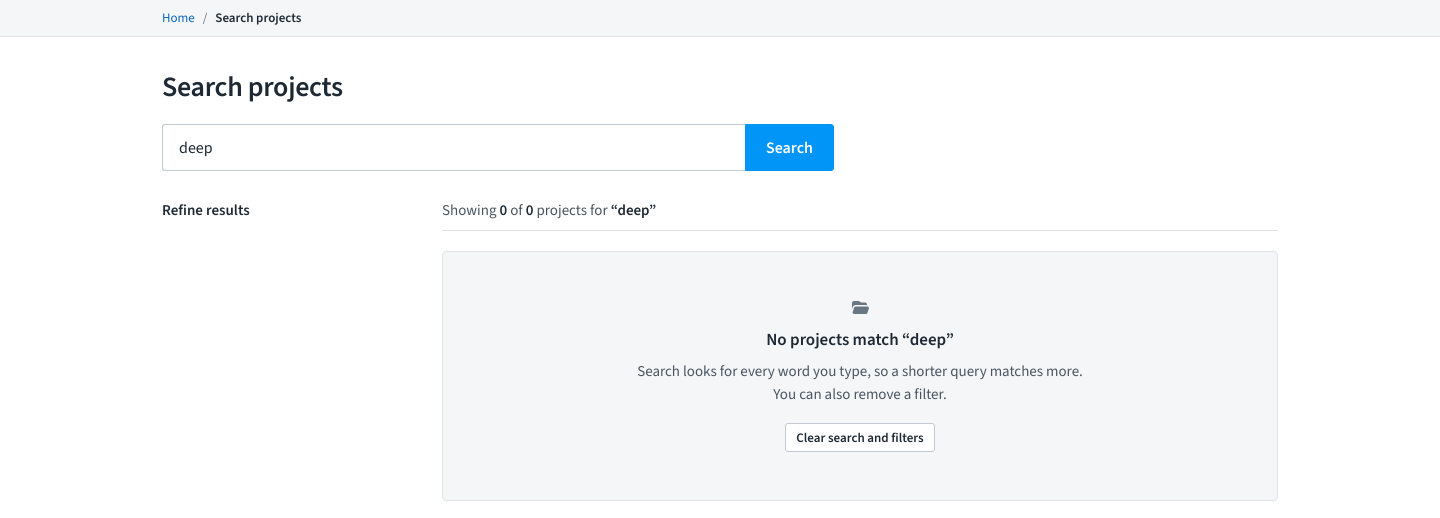
Test: catalogue search › keeps unsubmitted text in the box without searching for it
Note: Edited but never emptied, so nothing counts as an explicit act.
Type " tomato" into the search field at (454, 147), box [162,124,745,171]
Wait 2000 ms
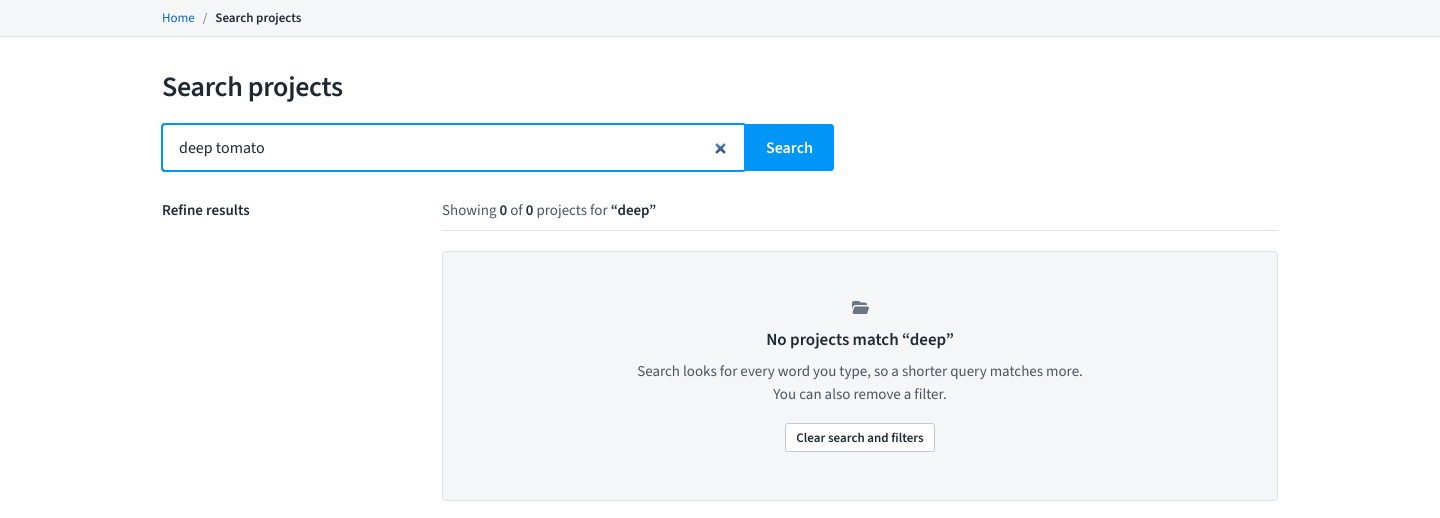
Expected: the search field holds "deep tomato", [162,124,745,171]
